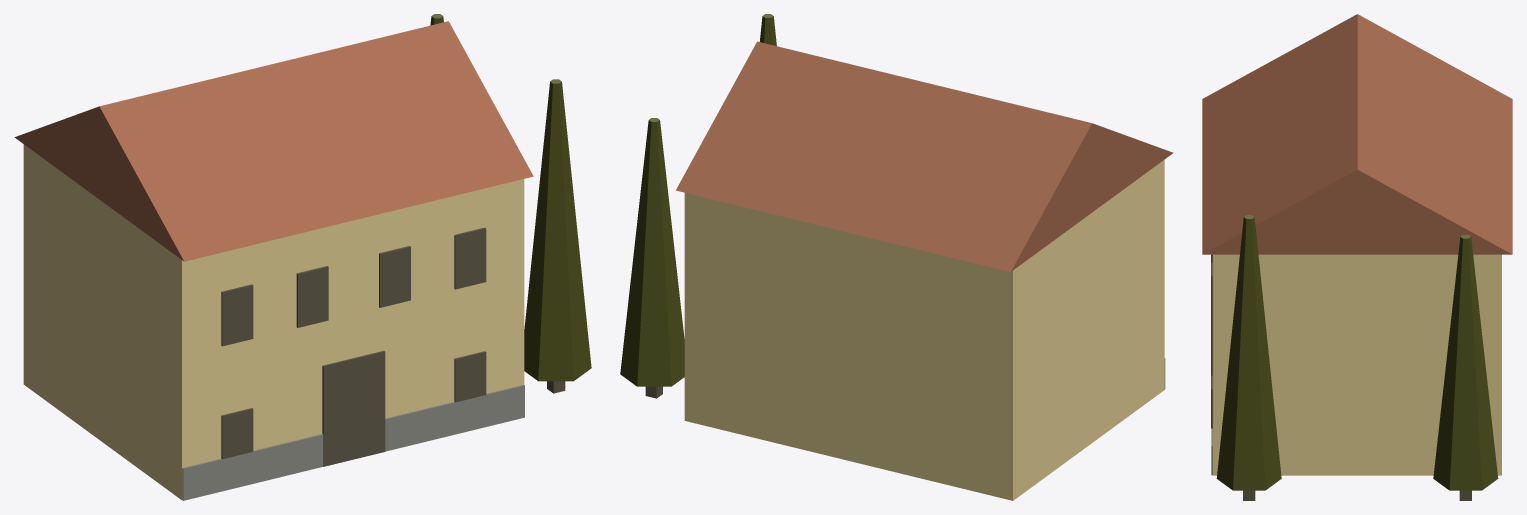
The model's file is SM_CasaLabor_v1_Ocre_LOD1.fbx.
The picture shows the model from 3 angles, left to right: view 1: azimuth 30°, elevation 25°; view 2: azimuth 150°, elevation 25°; view 3: azimuth 270°, elevation 25°; orthographic projection. The views are drawn at different scales.
Parts seen in each view (by area): view 1: SM_bloques.viveres_nules_v11_LOD1; view 2: SM_bloques.viveres_nules_v11_LOD1; view 3: SM_bloques.viveres_nules_v11_LOD1.
Boxes of the visible parts, box(x1,y1,x2,y2) form: SM_bloques.viveres_nules_v11_LOD1: box(14, 14, 591, 500); SM_bloques.viveres_nules_v11_LOD1: box(620, 14, 1173, 500); SM_bloques.viveres_nules_v11_LOD1: box(1202, 14, 1512, 500).
Bounding box in the file's own units: 12.38 × 9.4 × 8.6.
